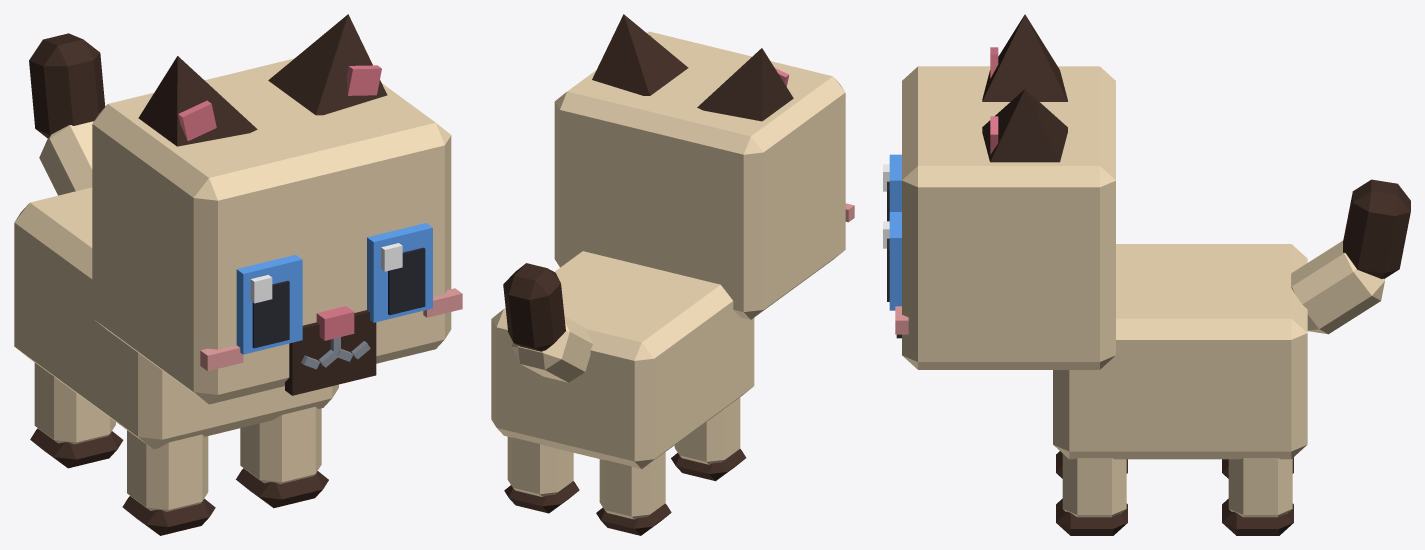
The model's file is CatCafe_Cat_Siamese.fbx.
3 views of the same model, side by side, from view 1: azimuth 30°, elevation 25°; view 2: azimuth 150°, elevation 25°; view 3: azimuth 270°, elevation 25° (orthographic). The views are drawn at different scales.
Visible parts, largest first — view 1: CatCafe_Cat_Siamese_Head, CatCafe_Cat_Siamese_Body, CatCafe_Cat_Siamese_Tail, CatCafe_Cat_Siamese_LegF2, CatCafe_Cat_Siamese_LegF1, CatCafe_Cat_Siamese_EarL, CatCafe_Cat_Siamese_Eye2, CatCafe_Cat_Siamese_Eye1, CatCafe_Cat_Siamese_LegB2, CatCafe_Cat_Siamese_EarR; view 2: CatCafe_Cat_Siamese_Head, CatCafe_Cat_Siamese_Body, CatCafe_Cat_Siamese_Tail, CatCafe_Cat_Siamese_LegB2, CatCafe_Cat_Siamese_EarL, CatCafe_Cat_Siamese_LegB1, CatCafe_Cat_Siamese_EarR, CatCafe_Cat_Siamese_LegF2; view 3: CatCafe_Cat_Siamese_Head, CatCafe_Cat_Siamese_Body, CatCafe_Cat_Siamese_Tail, CatCafe_Cat_Siamese_LegF1, CatCafe_Cat_Siamese_LegB1, CatCafe_Cat_Siamese_EarL, CatCafe_Cat_Siamese_EarR, CatCafe_Cat_Siamese_Eye1, CatCafe_Cat_Siamese_Eye2.
Boxes of the visible parts, <box> form: CatCafe_Cat_Siamese_Head: <box>92,58,462,404</box>; CatCafe_Cat_Siamese_Body: <box>14,187,338,449</box>; CatCafe_Cat_Siamese_Tail: <box>29,33,105,195</box>; CatCafe_Cat_Siamese_LegF2: <box>122,430,215,535</box>; CatCafe_Cat_Siamese_LegF1: <box>236,406,328,507</box>; CatCafe_Cat_Siamese_EarL: <box>268,14,387,115</box>; CatCafe_Cat_Siamese_Eye2: <box>236,254,302,354</box>; CatCafe_Cat_Siamese_Eye1: <box>367,223,432,322</box>; CatCafe_Cat_Siamese_LegB2: <box>30,362,123,468</box>; CatCafe_Cat_Siamese_EarR: <box>138,56,257,146</box>; CatCafe_Cat_Siamese_Head: <box>554,31,854,319</box>; CatCafe_Cat_Siamese_Body: <box>491,251,754,469</box>; CatCafe_Cat_Siamese_Tail: <box>503,263,592,382</box>; CatCafe_Cat_Siamese_LegB2: <box>596,452,671,535</box>; CatCafe_Cat_Siamese_EarL: <box>592,14,688,95</box>; CatCafe_Cat_Siamese_LegB1: <box>504,437,579,513</box>; CatCafe_Cat_Siamese_EarR: <box>697,48,793,121</box>; CatCafe_Cat_Siamese_LegF2: <box>671,397,746,481</box>; CatCafe_Cat_Siamese_Head: <box>895,66,1115,369</box>; CatCafe_Cat_Siamese_Body: <box>1053,244,1307,459</box>; CatCafe_Cat_Siamese_Tail: <box>1291,179,1410,334</box>; CatCafe_Cat_Siamese_LegF1: <box>1056,454,1127,535</box>; CatCafe_Cat_Siamese_LegB1: <box>1222,458,1293,535</box>; CatCafe_Cat_Siamese_EarL: <box>982,89,1067,162</box>; CatCafe_Cat_Siamese_EarR: <box>982,14,1067,101</box>; CatCafe_Cat_Siamese_Eye1: <box>883,212,901,310</box>; CatCafe_Cat_Siamese_Eye2: <box>883,154,901,221</box>.
Size of the model in its own units: 1 by 1.86 by 1.97.
Materials: 1 (1 with a texture image).
